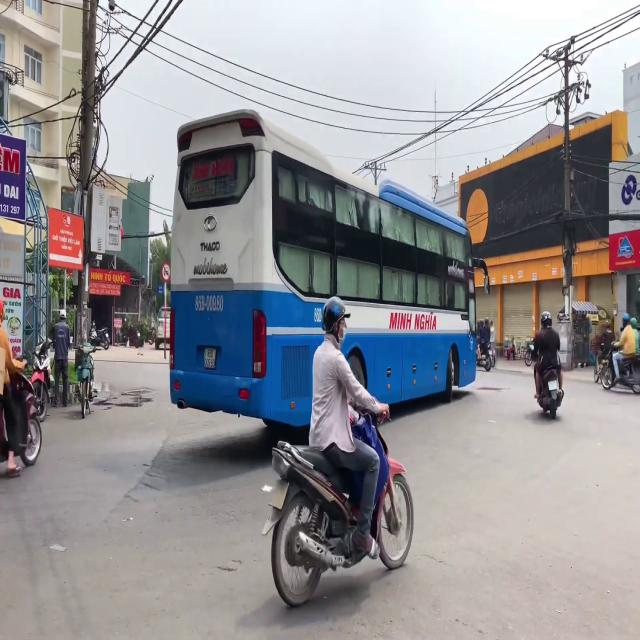bien_trang: (203, 346, 217, 371)
